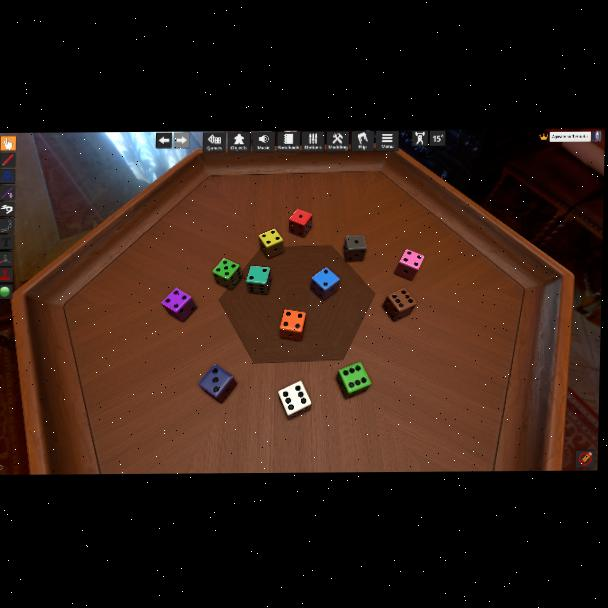d6: (198, 365, 235, 404), (278, 380, 312, 419), (161, 287, 196, 322), (336, 364, 369, 399), (383, 288, 415, 322), (310, 268, 339, 301), (395, 248, 423, 282), (213, 258, 241, 290), (279, 310, 306, 342), (257, 228, 284, 260), (246, 265, 272, 295), (287, 209, 311, 238), (343, 235, 366, 263)
